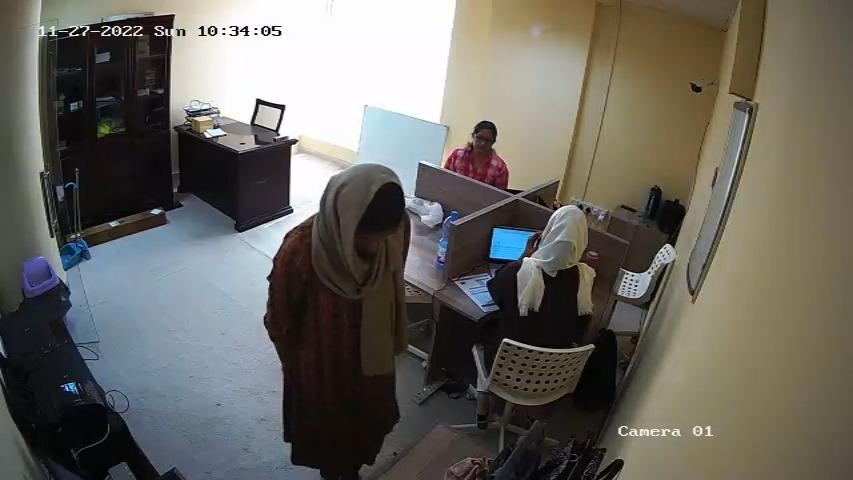no_apron: (282, 247, 395, 400)
